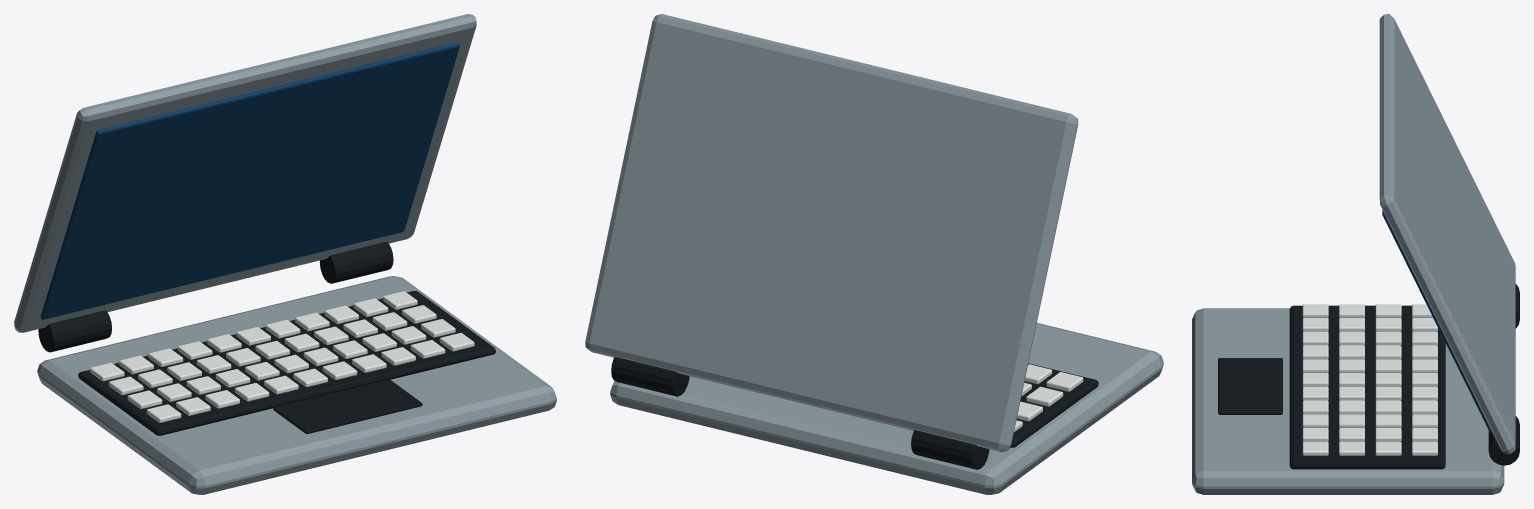
File: edited.glb
3 views of the same model, side by side, from view 1: azimuth 30°, elevation 25°; view 2: azimuth 150°, elevation 25°; view 3: azimuth 270°, elevation 25° (orthographic). The views are drawn at different scales.
Parts seen in each view (by area): view 1: LID_Display, BASE_Chassis, LID_Shell, KEYBOARD_Keys, KEYBOARD_Inset, TOUCHPAD, HINGE, HINGE.001; view 2: LID_Shell, BASE_Chassis, KEYBOARD_Keys, HINGE.001, HINGE, KEYBOARD_Inset; view 3: LID_Shell, BASE_Chassis, KEYBOARD_Keys, KEYBOARD_Inset, TOUCHPAD, LID_Display, HINGE.001.
Boxes of the visible parts, left/top/right/bottom form: LID_Display: left=40, top=42, right=459, bottom=319; BASE_Chassis: left=37, top=276, right=556, bottom=494; LID_Shell: left=14, top=14, right=476, bottom=332; KEYBOARD_Keys: left=89, top=291, right=474, bottom=422; KEYBOARD_Inset: left=78, top=291, right=495, bottom=435; TOUCHPAD: left=273, top=379, right=422, bottom=433; HINGE: left=38, top=310, right=111, bottom=352; HINGE.001: left=319, top=241, right=393, bottom=283; LID_Shell: left=585, top=14, right=1078, bottom=451; BASE_Chassis: left=610, top=323, right=1163, bottom=494; KEYBOARD_Keys: left=1014, top=364, right=1083, bottom=432; HINGE.001: left=611, top=357, right=689, bottom=396; HINGE: left=911, top=430, right=989, bottom=469; KEYBOARD_Inset: left=1010, top=363, right=1098, bottom=447; LID_Shell: left=1379, top=14, right=1515, bottom=454; BASE_Chassis: left=1192, top=308, right=1504, bottom=494; KEYBOARD_Keys: left=1302, top=304, right=1437, bottom=455; KEYBOARD_Inset: left=1289, top=305, right=1445, bottom=469; TOUCHPAD: left=1218, top=358, right=1282, bottom=414; LID_Display: left=1382, top=210, right=1492, bottom=432; HINGE.001: left=1488, top=416, right=1519, bottom=465.
Size of the model in its own units: 0.34 by 0.2616 by 0.252.
